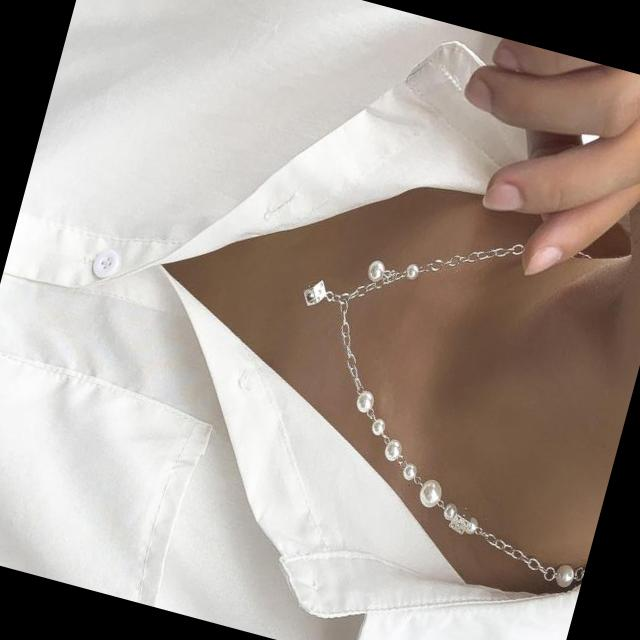Nail: (478, 182, 528, 212), (462, 72, 499, 112), (525, 244, 564, 274), (490, 45, 518, 74)
